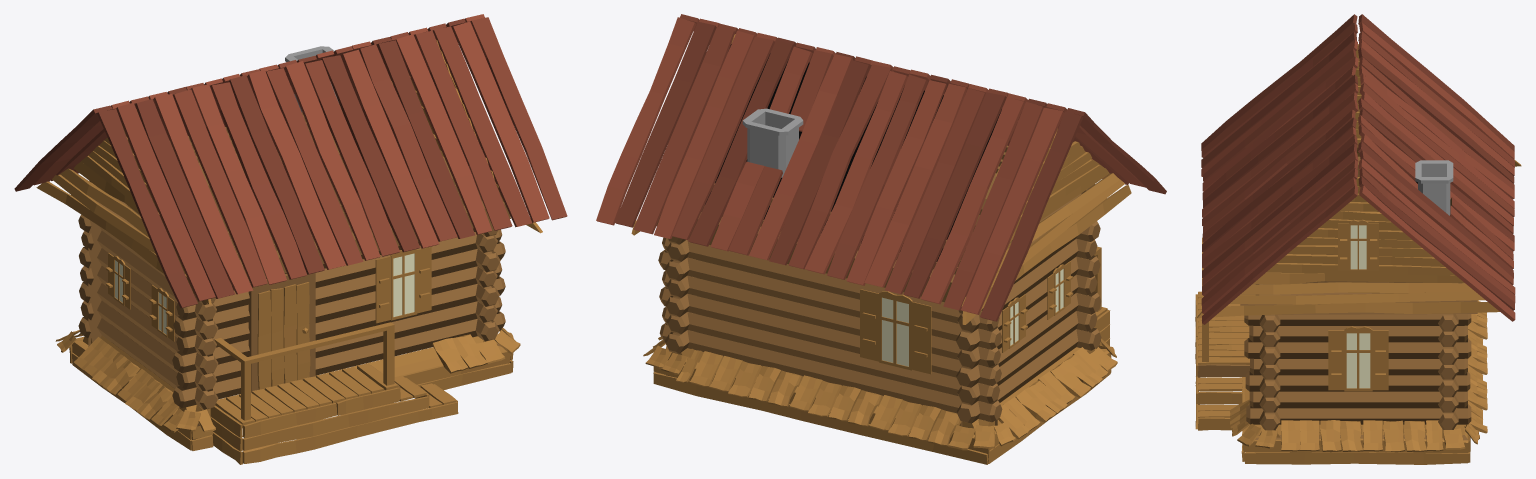
Rendered from Haus_klein.fbx.
3 renders of one model, left to right at view 1: azimuth 30°, elevation 25°; view 2: azimuth 150°, elevation 25°; view 3: azimuth 270°, elevation 25°, orthographic. The views are drawn at different scales.
Visible parts, largest first — view 1: Haus; view 2: Haus; view 3: Haus.
Boxes of the visible parts, left/top/right/bottom form: Haus: left=14, top=14, right=567, bottom=464; Haus: left=596, top=14, right=1166, bottom=464; Haus: left=1195, top=14, right=1521, bottom=464.
Bounding box in the file's own units: 9.17 × 6.92 × 7.03.
